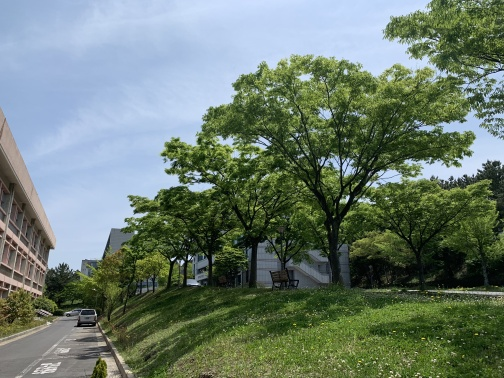College Of Education: (1, 110, 54, 355)
